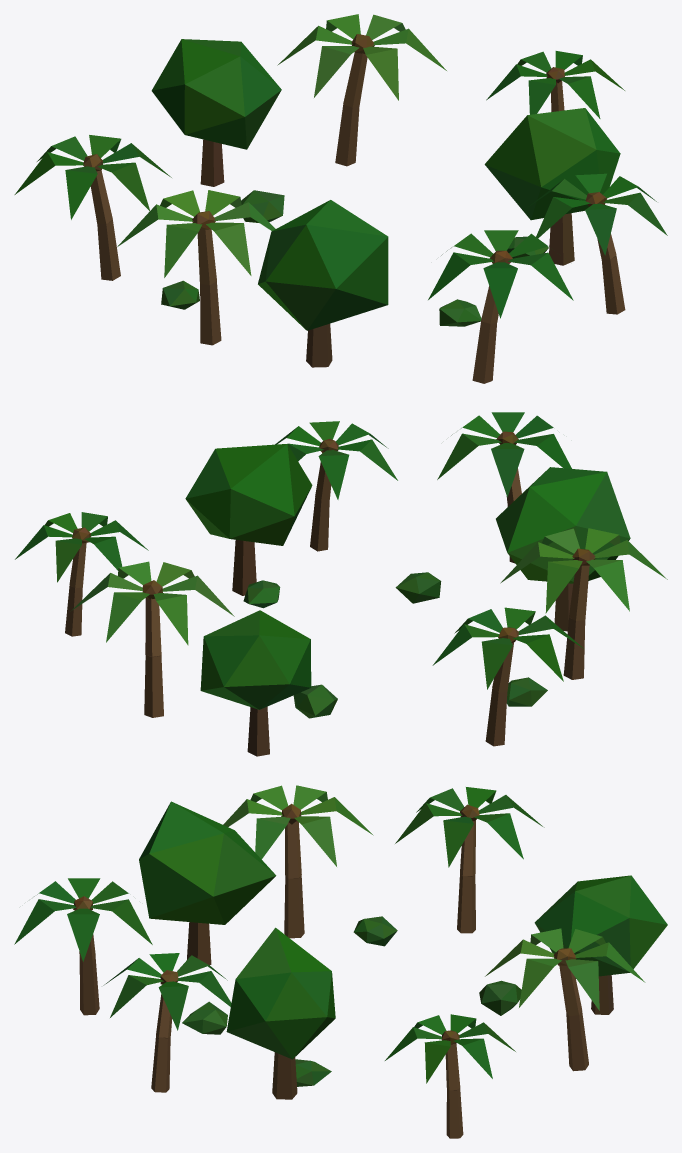
Rendered from Jungle.glb.
3 renders of one model, top to bottom at view 1: azimuth 30°, elevation 25°; view 2: azimuth 150°, elevation 25°; view 3: azimuth 270°, elevation 25°, orthographic. The views are drawn at different scales.
Visible parts, largest first — view 1: Jungle; view 2: Jungle; view 3: Jungle.
Boxes of the visible parts, box(x1,y1,x2,y2) form: Jungle: box(14, 14, 667, 383); Jungle: box(15, 412, 667, 756); Jungle: box(14, 785, 667, 1138).
Bounding box in the file's own units: 1.64 × 0.441 × 1.7.
